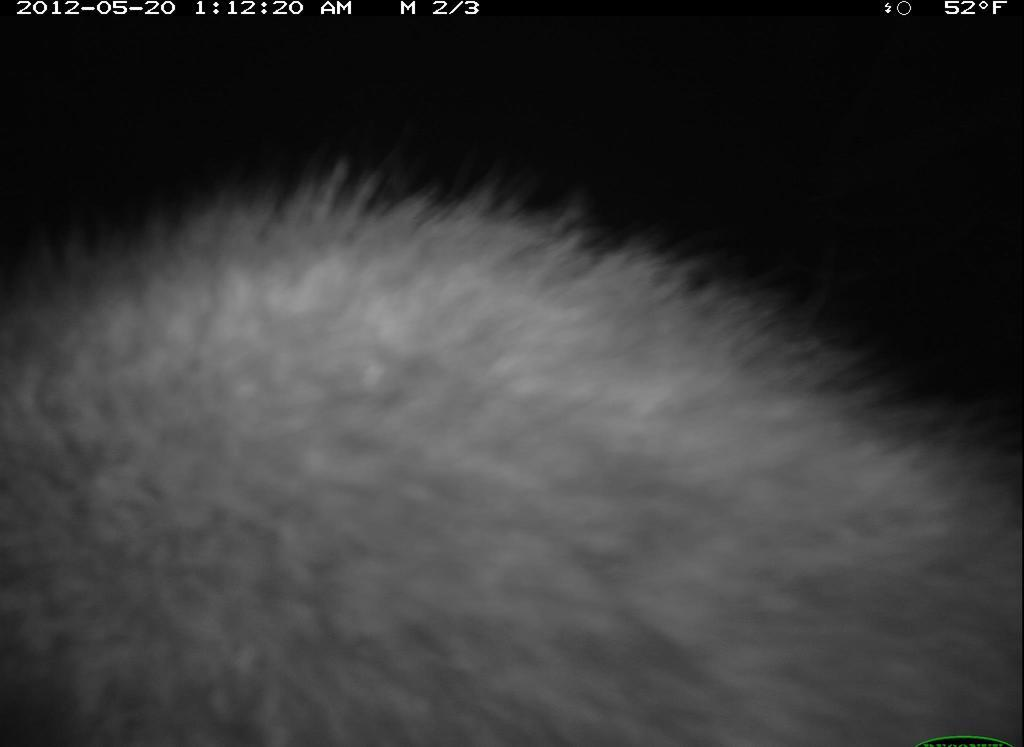raccoon: (3, 167, 1022, 747)
